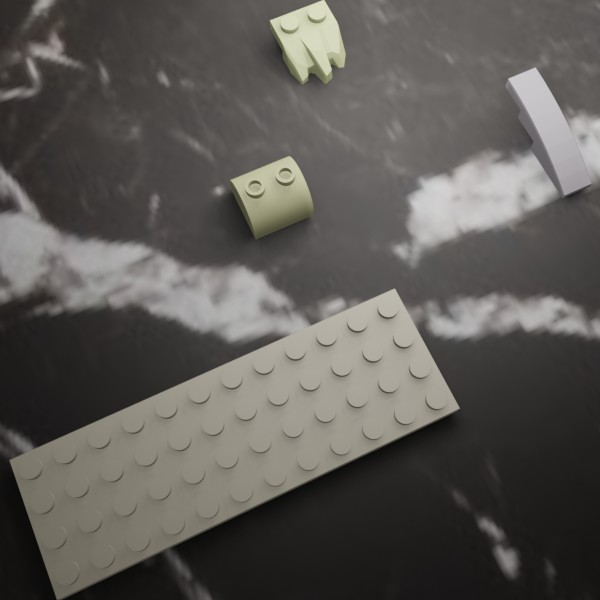lego: (9, 288, 459, 600), (505, 67, 591, 198), (229, 156, 313, 239), (269, 0, 345, 84)
